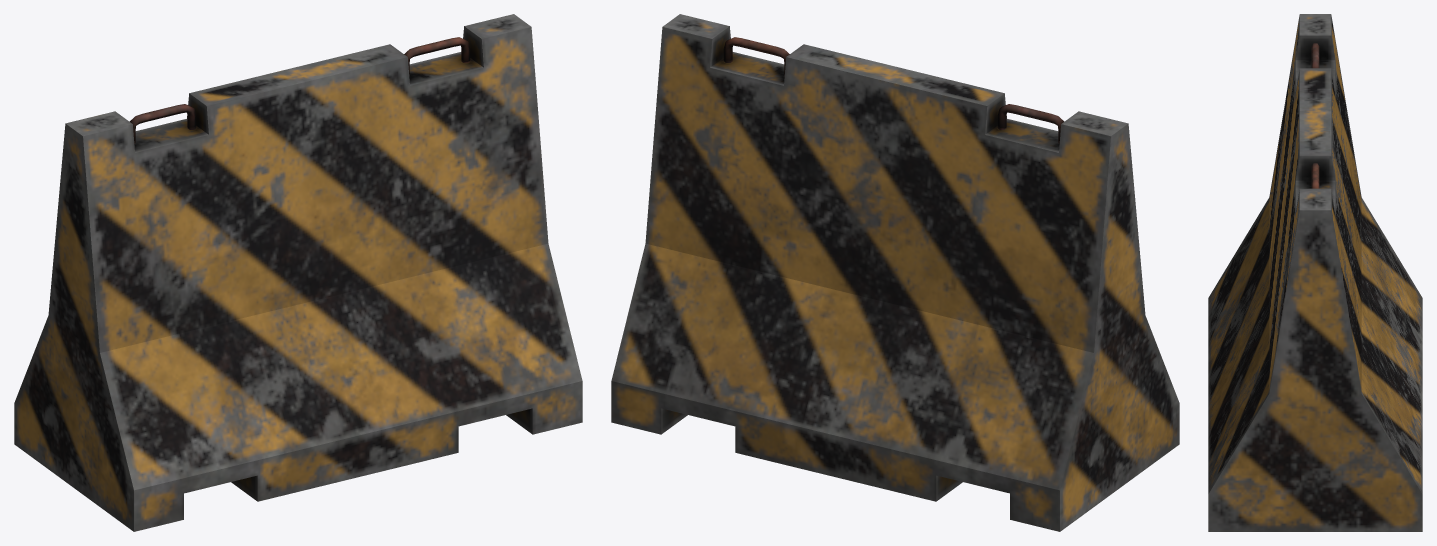
Rendered from Concrete_Barrier_01.fbx.
3 views of the same model, side by side, from view 1: azimuth 30°, elevation 25°; view 2: azimuth 150°, elevation 25°; view 3: azimuth 270°, elevation 25° (orthographic). The views are drawn at different scales.
Visible parts, largest first — view 1: Concrete_Barrier; view 2: Concrete_Barrier; view 3: Concrete_Barrier.
Part boxes in pixels (box(x1,y1,x2,y2)): Concrete_Barrier: box(14, 14, 582, 531); Concrete_Barrier: box(611, 14, 1179, 531); Concrete_Barrier: box(1208, 14, 1422, 531).
Bounding box in the file's own units: 120 × 91.47 × 55.32.
